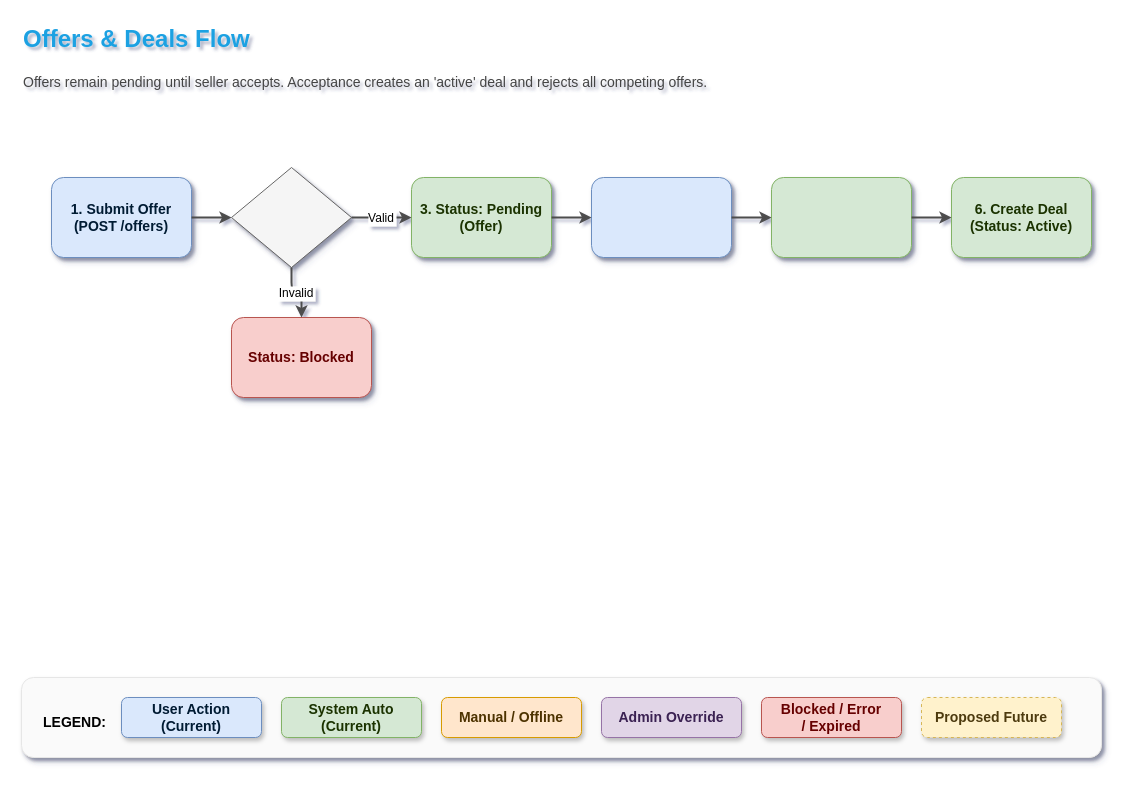
Image size: 1145x788. Some labels were removed from this diagram. Here are the shapes that lost their labels. From the top down, the centre of each, then its label:
the point at 292,218: 2. License Check (Blocked?)
the point at 662,218: 4. Seller Accepts (POST /accept)
the point at 842,218: 5. Reject Other Offers Automatically
